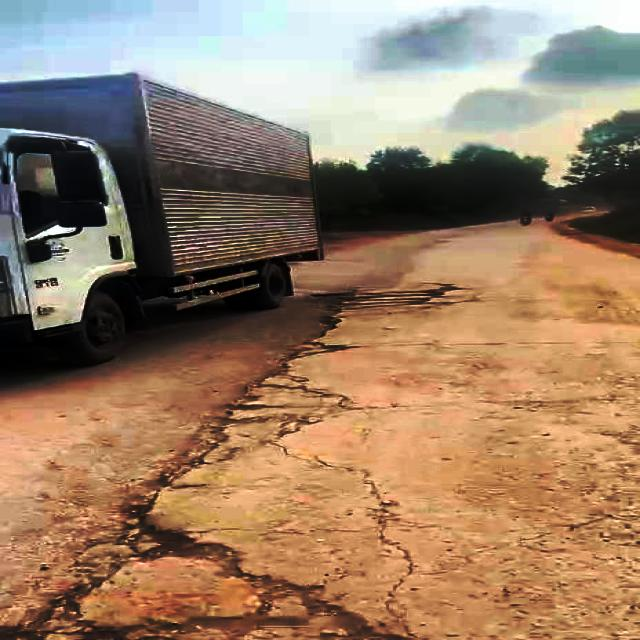pothole: (188, 579, 380, 640), (114, 504, 258, 574), (3, 576, 120, 640), (154, 427, 234, 491), (282, 334, 344, 361)
